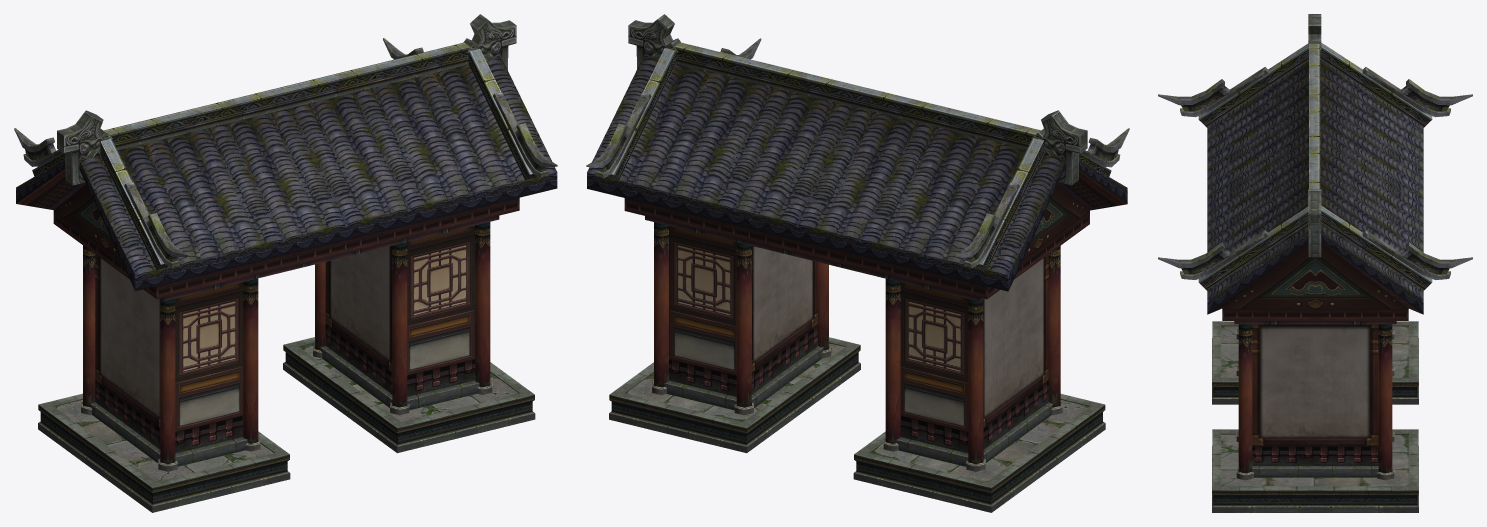
File: HYC_jianzhu_12.FBX
The picture shows the model from 3 angles, left to right: view 1: azimuth 30°, elevation 25°; view 2: azimuth 150°, elevation 25°; view 3: azimuth 270°, elevation 25°; orthographic projection. The views are drawn at different scales.
Visible parts, largest first — view 1: HYC_jianzhu_12; view 2: HYC_jianzhu_12; view 3: HYC_jianzhu_12.
Boxes of the visible parts, x1,y1,x2,y2 form: HYC_jianzhu_12: (14, 14, 557, 512); HYC_jianzhu_12: (586, 14, 1129, 512); HYC_jianzhu_12: (1158, 14, 1472, 512).
Bounding box in the file's own units: 954 × 725 × 634.
